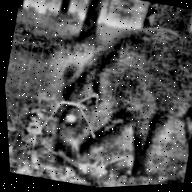boar: (36, 0, 192, 187)
